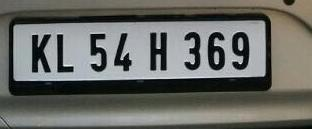3: (182, 30, 202, 71)
4: (112, 31, 132, 71)
5: (87, 30, 108, 72)
6: (205, 29, 226, 71)
9: (229, 28, 251, 70)
H: (147, 29, 168, 72)
K: (28, 30, 53, 72)
L: (54, 30, 75, 73)
